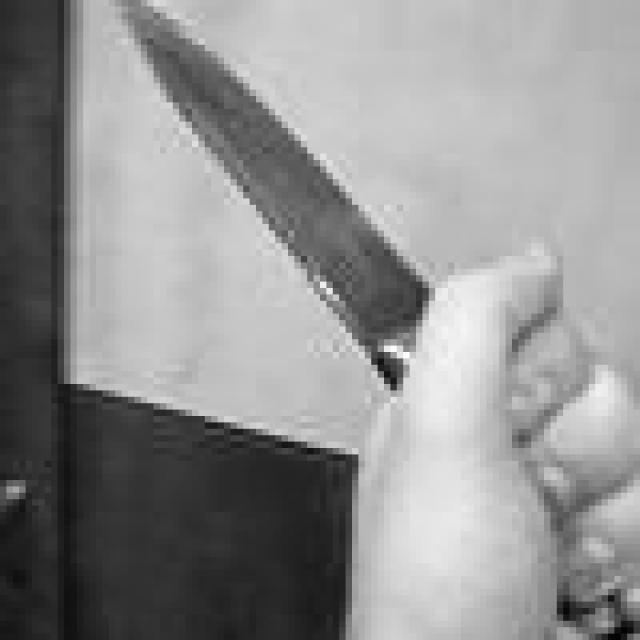knife: (128, 6, 622, 632)
